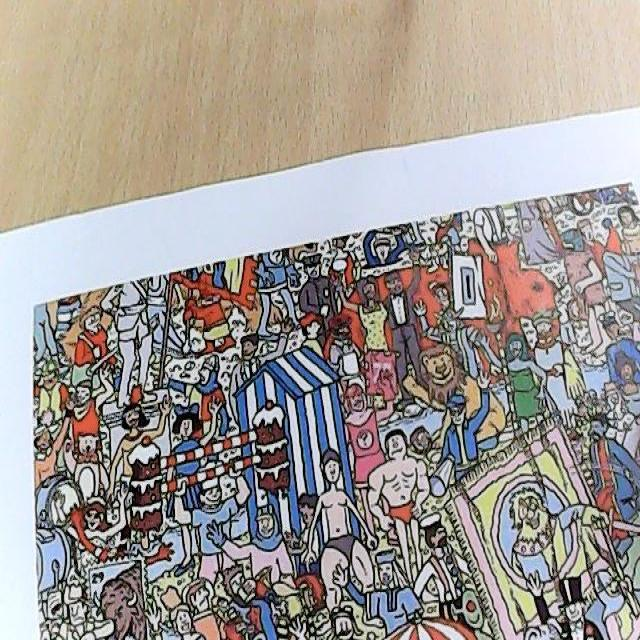waldo: (428, 279, 452, 313)
